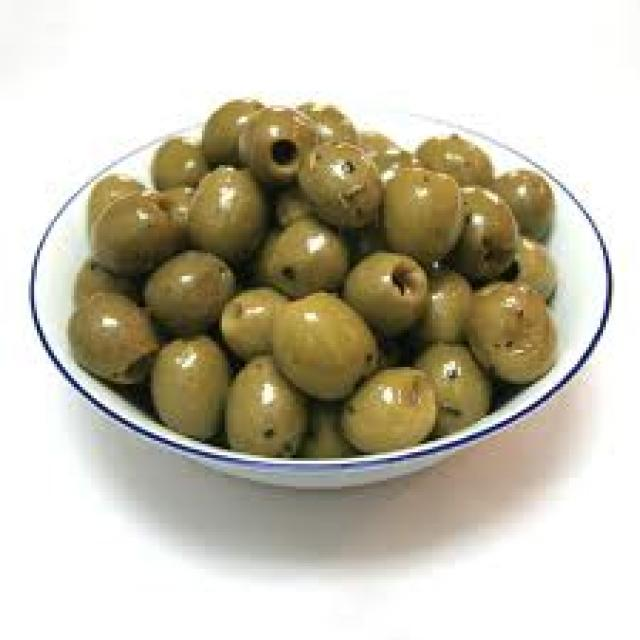olive: (59, 85, 572, 461)
